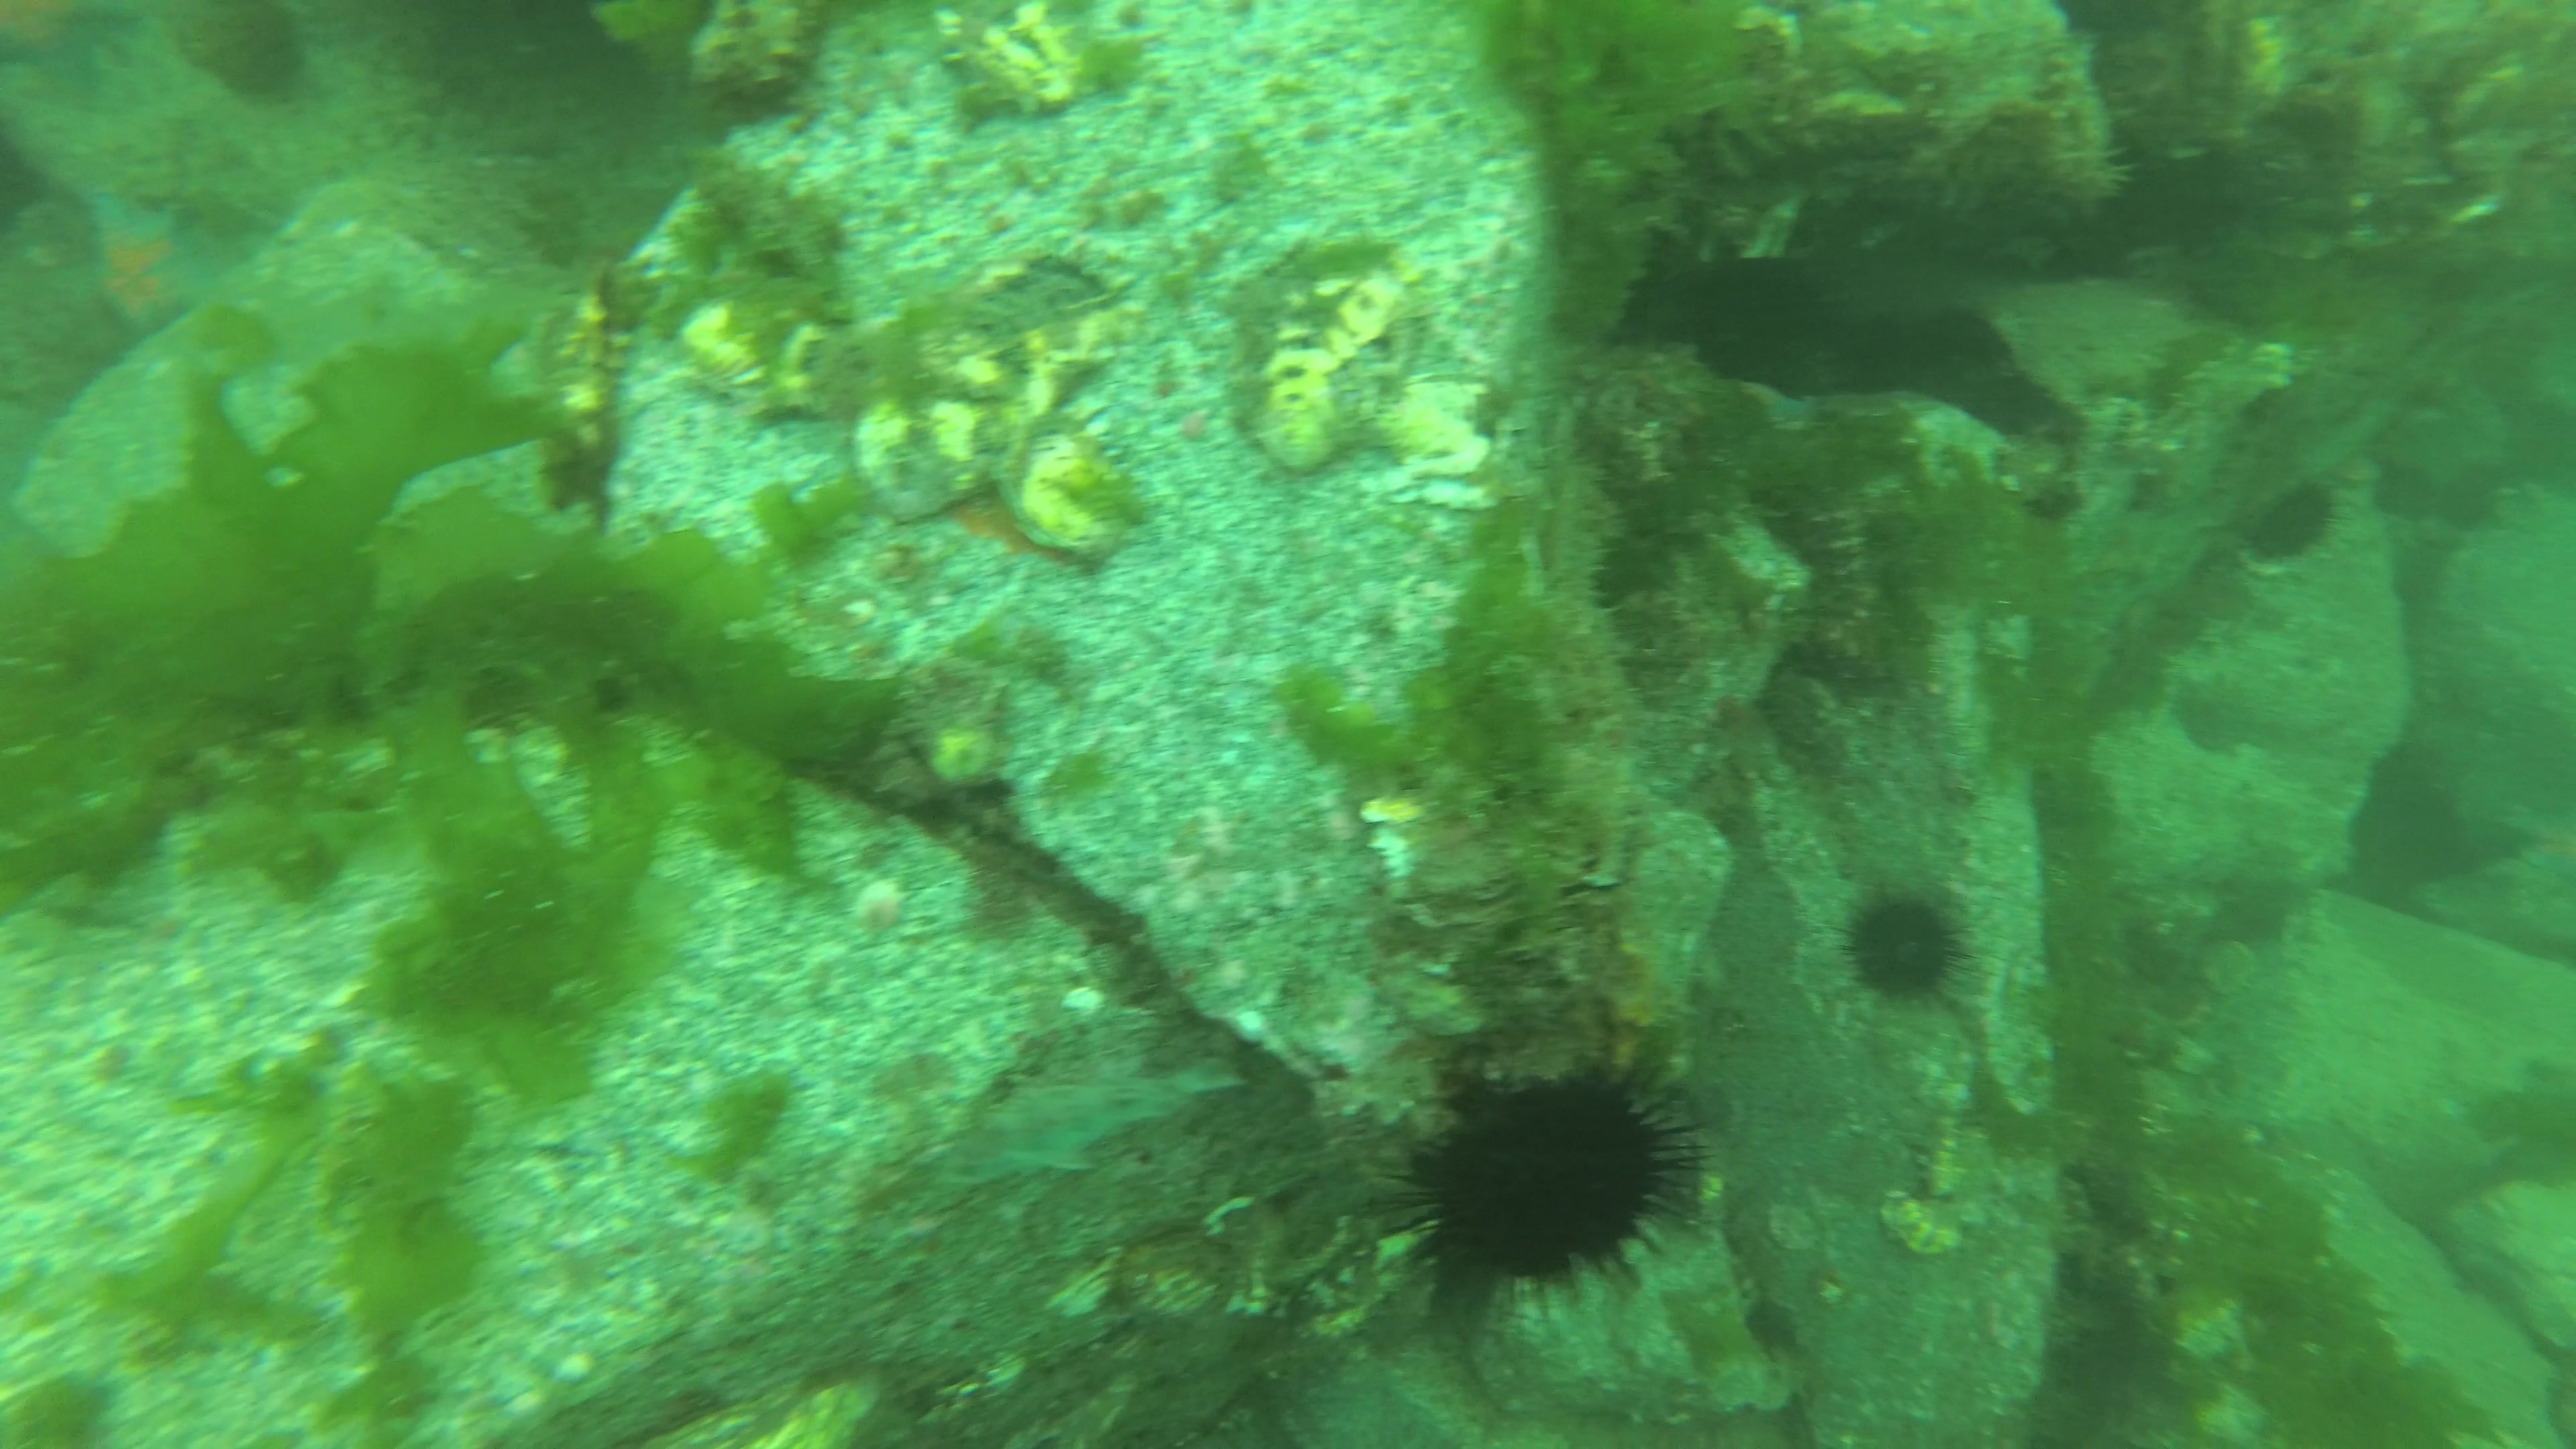echinus: (1369, 1054, 1716, 1293), (1831, 881, 1980, 1005), (2249, 474, 2346, 563)
starfish: (78, 180, 251, 331)
